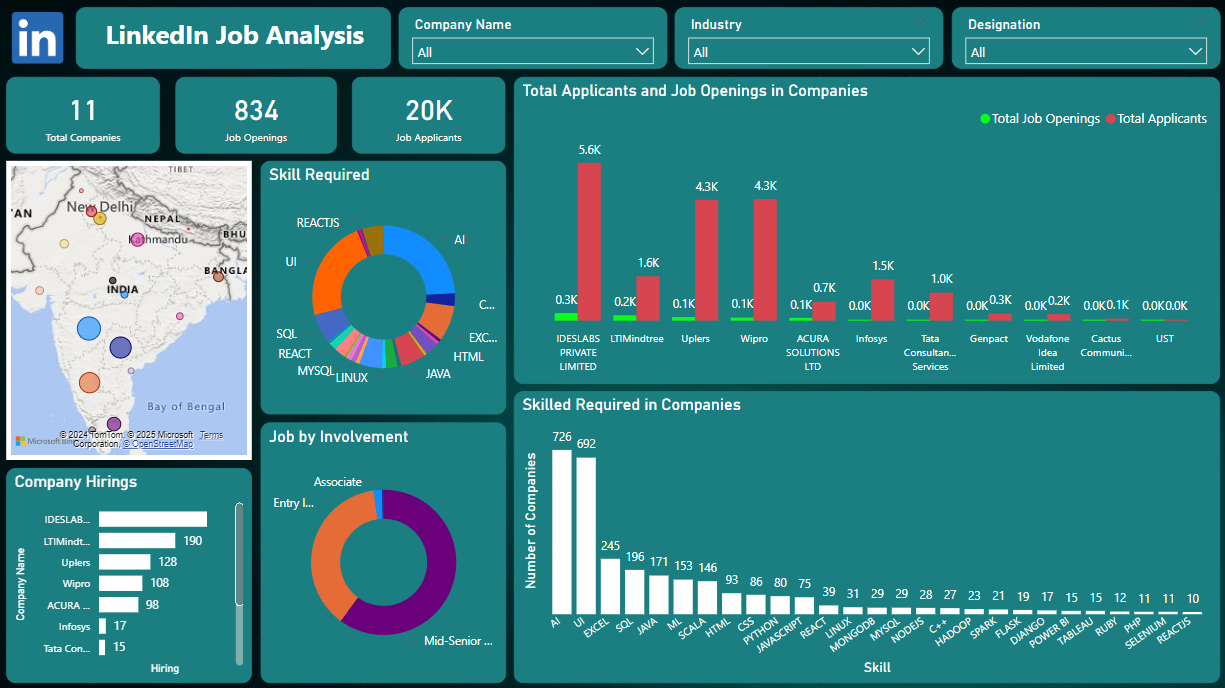

What the dashboard file says about the page in this screenshot:
{"tool":"powerbi","page":{"name":"Page 1","canvas":[1280,720],"ordinal":0},"visuals":[{"type":"card","fields":{"Values":["Count(Company Details.Company Name)"]},"box":[8,88,192,96],"z":0},{"type":"card","fields":{"Values":["CountNonNull(Company Details.Company Name)"]},"box":[208,88,192,96],"z":1000},{"type":"card","fields":{"Values":["Sum(Company Details.Total_applicants)"]},"box":[408,88,200,96],"z":2000},{"type":"map","fields":{"Category":["Company Details.Location"],"Size":["CountNonNull(Company Details.Location)"]},"box":[8,192,304,296],"z":3000},{"type":"donutChart","title":"Skills Required","fields":{"Y":["Sum(Company Details.AI)","Sum(Company Details.C++)","Sum(Company Details.CSS)","Sum(Company Details.DJANGO)","Sum(Company Details.EXCEL)","Sum(Company Details.HADOOP)","Sum(Company Details.HTML)","Sum(Company Details.JAVA)","Sum(Company Details.JAVASCRIPT)","Sum(Company Details.LINUX)","Sum(Company Details.ML)","Sum(Company Details.MONGODB)"]},"box":[320,192,288,256],"z":4000},{"type":"donutChart","title":"Job by Involvement","fields":{"Category":["Company Details.Involvement"],"Y":["CountNonNull(Company Details.Involvement)"]},"box":[320,456,288,256],"z":5000},{"type":"clusteredColumnChart","title":"Total Applicants and Job Openings in Companies","fields":{"Category":["Company Details.Company Name"],"Y":["CountNonNull(Company Details.Company Name)","Sum(Company Details.Total_applicants)"]},"box":[616,88,656,312],"z":6000},{"type":"clusteredColumnChart","title":"Total Applicants and Job Openings in Companies","fields":{"Y":["Sum(Skills.Number of jobs requiring the skill)"],"Category":["Skills.Skill"]},"box":[616,408,656,304],"z":7000},{"type":"slicer","fields":{"Values":["Company Details.Company Name"]},"box":[456,8,264,72],"z":8000},{"type":"clusteredBarChart","title":"Companies Hirings","fields":{"Category":["Company Details.Company Name"],"Y":["CountNonNull(Company Details.Company Name)"]},"box":[8,496,304,216],"z":9000},{"type":"slicer","fields":{"Values":["Company Details.Industry"]},"box":[728,8,264,72],"z":10000},{"type":"slicer","fields":{"Values":["Company Details.Designation"]},"box":[1000,8,272,72],"z":11000},{"type":"textbox","box":[80,8,368,72],"z":12000},{"type":"shape","box":[16,16,56,56],"z":13000},{"type":"image","box":[0,8,88,72],"z":14000}]}

Visuals, with their boxes in screenshot pixels (x1, y1, x2, y2), scaled from the page's 1280x720 canvas onto the 1225x688 screenshot:
card - Count(Company Details.Company Name): (left=8, top=84, right=191, bottom=176)
card - CountNonNull(Company Details.Company Name): (left=199, top=84, right=383, bottom=176)
card - Sum(Company Details.Total_applicants): (left=390, top=84, right=582, bottom=176)
map - Company Details.Location x CountNonNull(Company Details.Location): (left=8, top=183, right=299, bottom=466)
"Skills Required" donutChart: (left=306, top=183, right=582, bottom=428)
"Job by Involvement" donutChart: (left=306, top=436, right=582, bottom=680)
"Total Applicants and Job Openings in Companies" clusteredColumnChart: (left=590, top=84, right=1217, bottom=382)
"Total Applicants and Job Openings in Companies" clusteredColumnChart: (left=590, top=390, right=1217, bottom=680)
slicer - Company Details.Company Name: (left=436, top=8, right=689, bottom=76)
"Companies Hirings" clusteredBarChart: (left=8, top=474, right=299, bottom=680)
slicer - Company Details.Industry: (left=697, top=8, right=949, bottom=76)
slicer - Company Details.Designation: (left=957, top=8, right=1217, bottom=76)
textbox: (left=77, top=8, right=429, bottom=76)
shape: (left=15, top=15, right=69, bottom=69)
image: (left=0, top=8, right=84, bottom=76)
